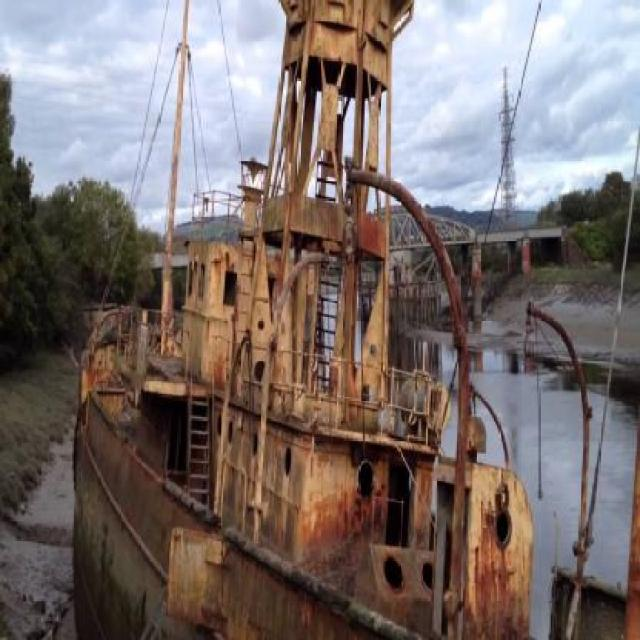corrosion: (75, 0, 533, 640)
